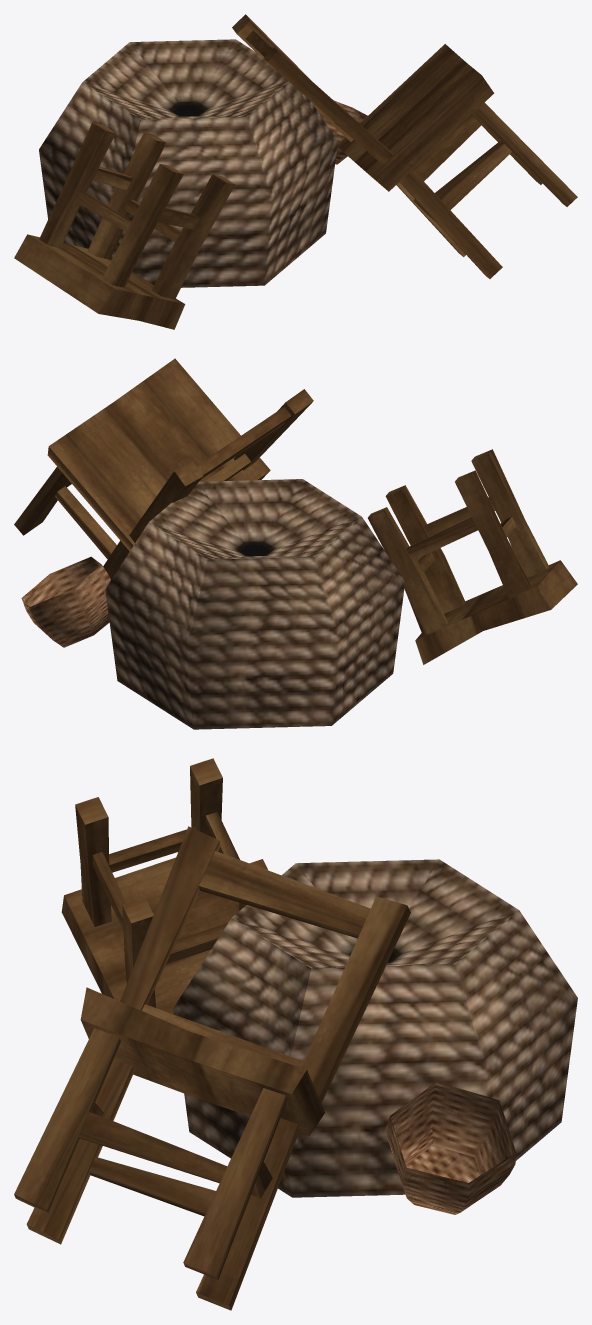
Rendered from prop_group04.fbx.
3 views of the same model, one above another, from view 1: azimuth 30°, elevation 25°; view 2: azimuth 150°, elevation 25°; view 3: azimuth 270°, elevation 25° (orthographic). The views are drawn at different scales.
Visible parts, largest first — view 1: pCylinder1, bankchair_seat, barstool_seat, barstool_leg04, barstool_leg06, barstool_leg02, barstool_leg05, bankchair_backside2, bankchair_leg4, bankchair_leg3, bankchair_legsupport4, bankchair_legsupport1 (+7 smaller); view 2: pCylinder1, bankchair_seat, barstool_seat, High1, barstool_leg05, barstool_leg02, barstool_leg06, barstool_leg04, High, bankchair_backside1, bankchair_backtop, bankchair_leg1 (+6 smaller); view 3: pCylinder1, bankchair_seat, High1, barstool_seat, bankchair_backside1, bankchair_leg3, bankchair_leg1, bankchair_backtop, bankchair_backside2, bankchair_leg2, bankchair_leg4, High (+10 smaller).
Boxes of the visible parts, x1,y1,x2,y2 form: pCylinder1: [39, 39, 337, 287]; bankchair_seat: [337, 44, 494, 191]; barstool_seat: [14, 234, 185, 329]; barstool_leg04: [152, 174, 235, 299]; barstool_leg06: [102, 164, 183, 287]; barstool_leg02: [39, 122, 115, 248]; barstool_leg05: [88, 132, 166, 259]; bankchair_backside2: [263, 47, 393, 164]; bankchair_leg4: [399, 170, 502, 278]; bankchair_leg3: [474, 102, 577, 206]; bankchair_legsupport4: [435, 140, 511, 209]; bankchair_legsupport1: [413, 115, 481, 180]; pCylinder1: [105, 479, 404, 729]; bankchair_seat: [47, 358, 270, 551]; barstool_seat: [415, 560, 577, 664]; High1: [21, 556, 110, 647]; barstool_leg05: [368, 507, 447, 635]; barstool_leg02: [455, 470, 531, 597]; barstool_leg06: [471, 449, 548, 577]; barstool_leg04: [385, 485, 465, 613]; High: [23, 558, 109, 645]; bankchair_backside1: [129, 461, 203, 542]; bankchair_backtop: [196, 407, 290, 478]; bankchair_leg1: [14, 467, 69, 535]; pCylinder1: [173, 859, 577, 1197]; bankchair_seat: [80, 987, 324, 1135]; High1: [386, 1082, 516, 1214]; barstool_seat: [61, 857, 238, 1014]; bankchair_backside1: [301, 896, 410, 1103]; bankchair_leg3: [14, 1028, 120, 1213]; bankchair_leg1: [183, 1088, 287, 1279]; bankchair_backtop: [199, 850, 370, 938]; bankchair_backside2: [120, 826, 220, 1010]; bankchair_leg2: [196, 1118, 300, 1310]; bankchair_leg4: [26, 1059, 134, 1244]; High: [387, 1083, 515, 1214].
Size of the model in its own units: 580 by 272 by 392.
1 material, 1 textured.
